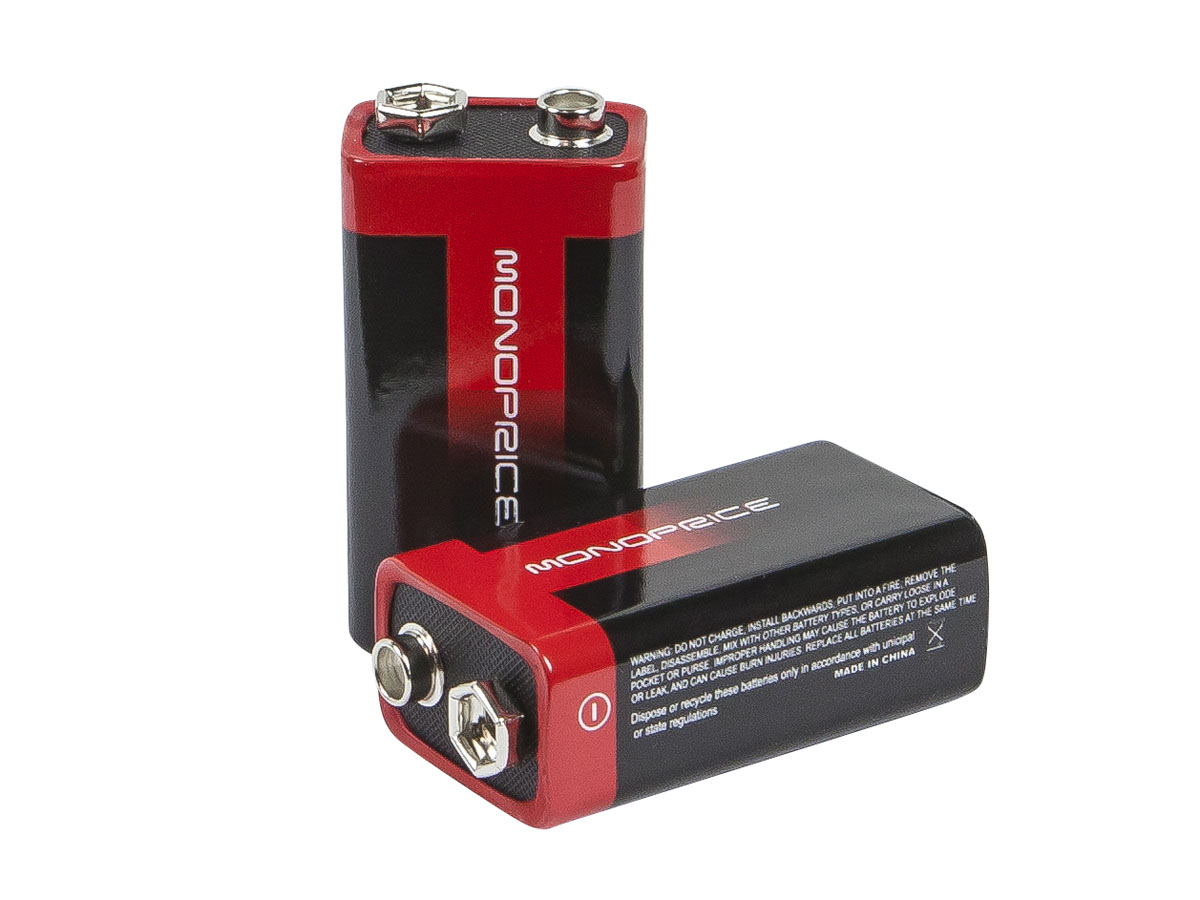9V: (352, 409, 1003, 830), (326, 75, 661, 414)
